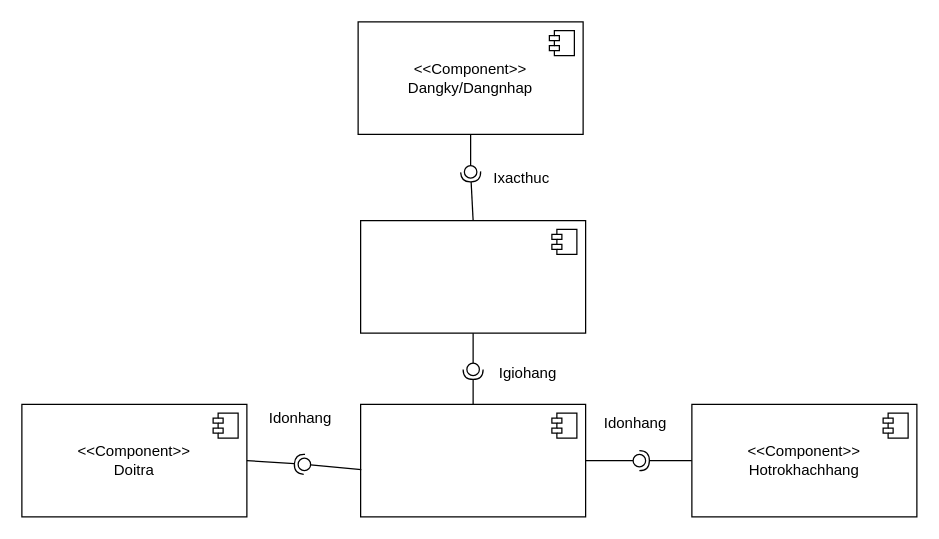
Some shapes in this 939 by 539 pixel diagram are drawn without their labels. The shapes that lost their labels are listed below. From the top down, each one's centre as x and y in pixels, then its label:
point 472,276: <<Component>> Quanlygiohang
point 472,460: <<Component>> Dathang
